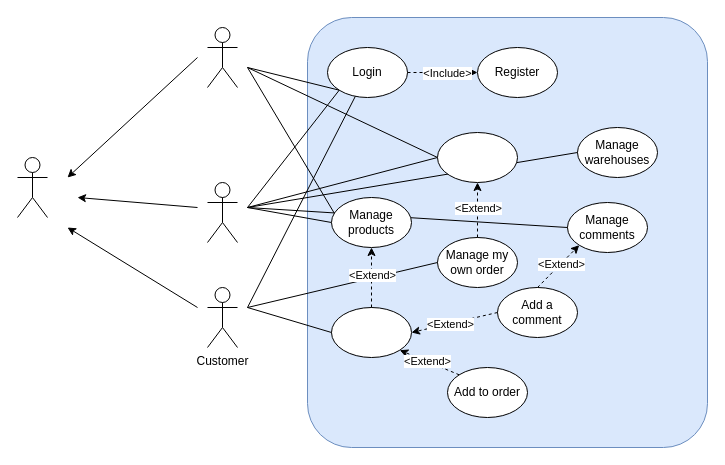
Image size: 725x465. Some labels were removed from this diagram. Each missing label, with the box of its shape:
Admin: (206, 182, 238, 242)
Manage orders: (436, 132, 518, 182)
Manager: (206, 26, 238, 88)
User: (16, 156, 48, 218)
View products: (330, 306, 412, 358)
